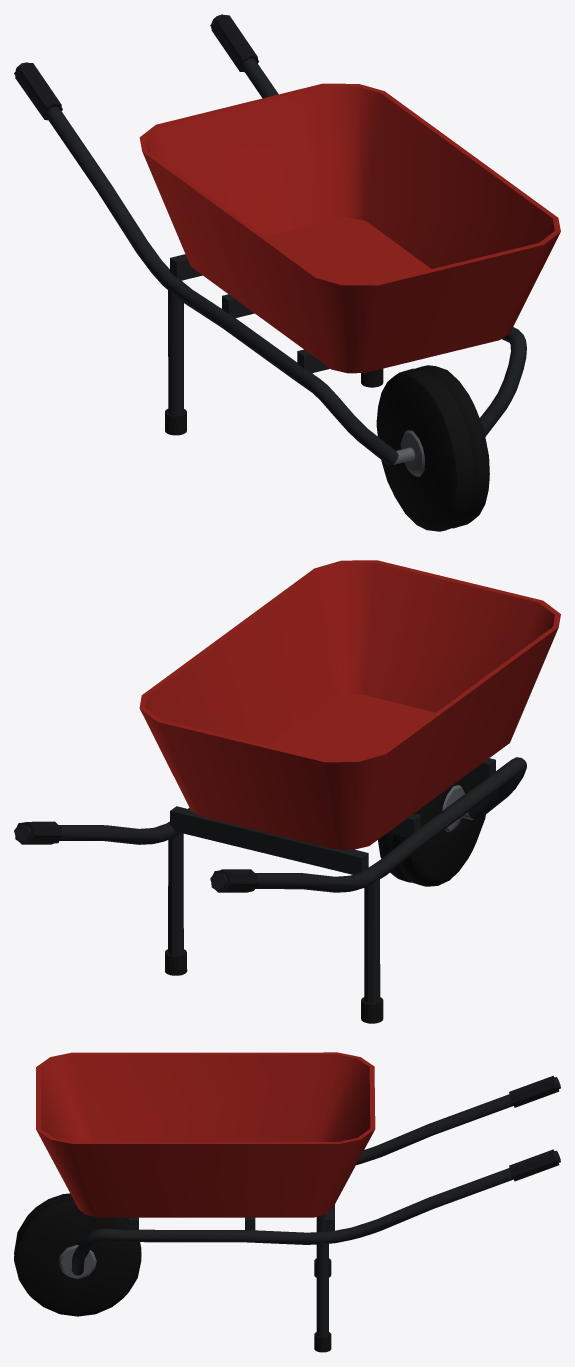
File: wheelbarrow.glb
3 renders of one model, top to bottom at view 1: azimuth 30°, elevation 25°; view 2: azimuth 150°, elevation 25°; view 3: azimuth 270°, elevation 25°, orthographic. The views are drawn at different scales.
Parts seen in each view (by area): view 1: tray, frame, wheel, grips, feet; view 2: tray, frame, wheel, grips, feet; view 3: tray, wheel, frame, grips, feet.
Part boxes in pixels (<box>): tray: <box>139,83,560,373</box>; frame: <box>15,14,526,465</box>; wheel: <box>376,365,489,531</box>; grips: <box>14,15,258,120</box>; feet: <box>165,368,383,435</box>; tray: <box>139,560,560,849</box>; frame: <box>15,757,526,1003</box>; wheel: <box>378,777,485,886</box>; grips: <box>14,821,258,892</box>; feet: <box>165,949,383,1023</box>; tray: <box>36,1052,375,1217</box>; wheel: <box>14,1193,141,1316</box>; frame: <box>71,1077,560,1336</box>; grips: <box>509,1075,559,1181</box>; feet: <box>314,1258,331,1352</box>.
Size of the model in its own units: 0.5972 by 0.6509 by 1.51.
